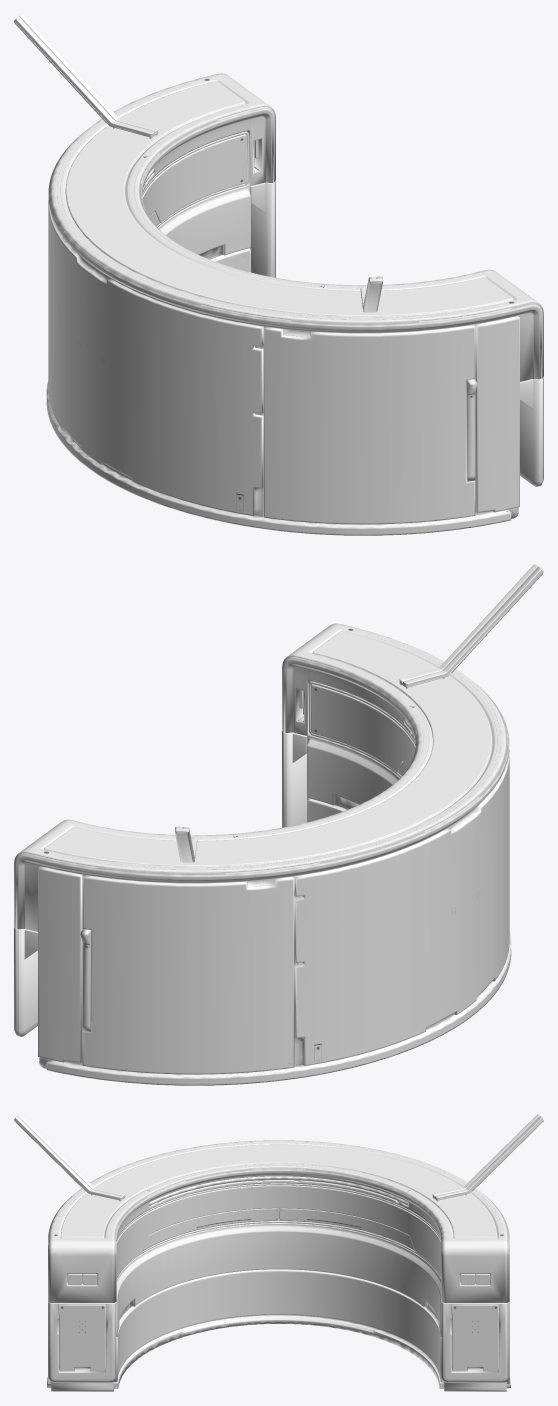
Rendered from Trim.fbx.
3 views of the same model, one above another, from view 1: azimuth 30°, elevation 25°; view 2: azimuth 150°, elevation 25°; view 3: azimuth 270°, elevation 25° (orthographic). The views are drawn at different scales.
Visible parts, largest first — view 1: SM_Terminal_A; view 2: SM_Terminal_A; view 3: SM_Terminal_A.
Part boxes in pixels (x1,y1,x2,y2): SM_Terminal_A: [14, 14, 543, 535]; SM_Terminal_A: [14, 564, 543, 1085]; SM_Terminal_A: [14, 1114, 543, 1391].
Size of the model in its own units: 142 by 135 by 297.
